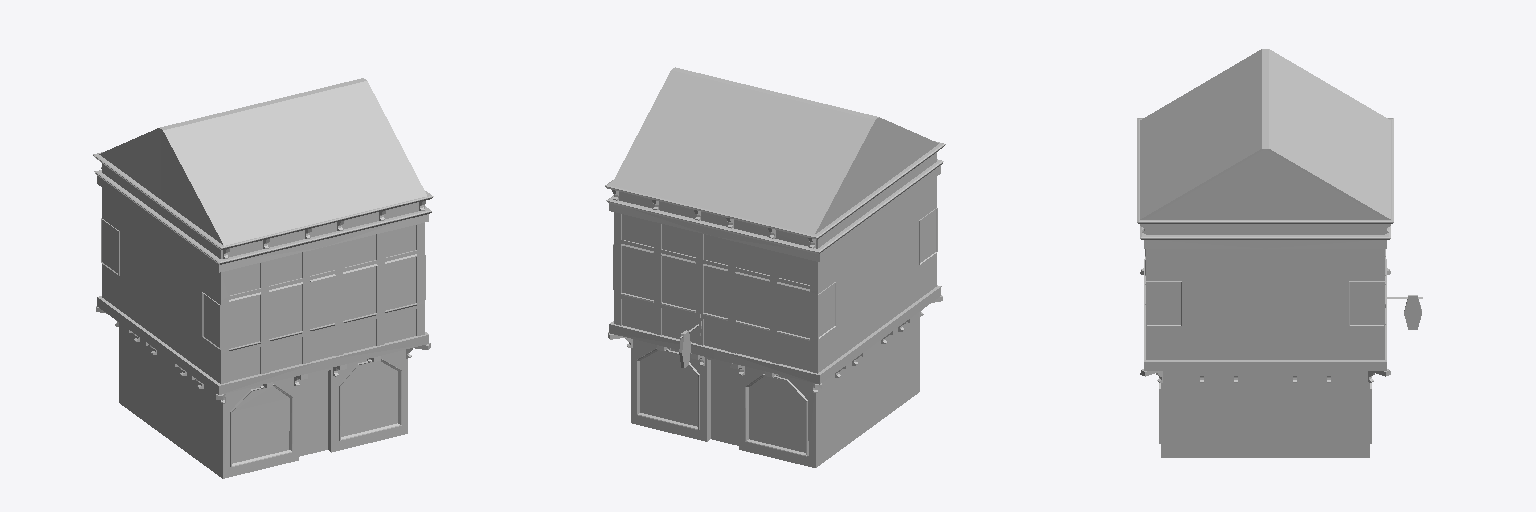
Rendered from house19.obj.
The picture shows the model from 3 angles: view 1: azimuth 30°, elevation 25°; view 2: azimuth 150°, elevation 25°; view 3: azimuth 270°, elevation 25°; orthographic projection.
Visible parts, largest first — view 1: City_building_031.001; view 2: City_building_031.001; view 3: City_building_031.001.
Boxes of the visible parts, <box> form: City_building_031.001: <box>93,78,433,478</box>; City_building_031.001: <box>605,67,945,467</box>; City_building_031.001: <box>1137,49,1422,457</box>.
Bounding box in the file's own units: 1.41 × 1.97 × 1.62.